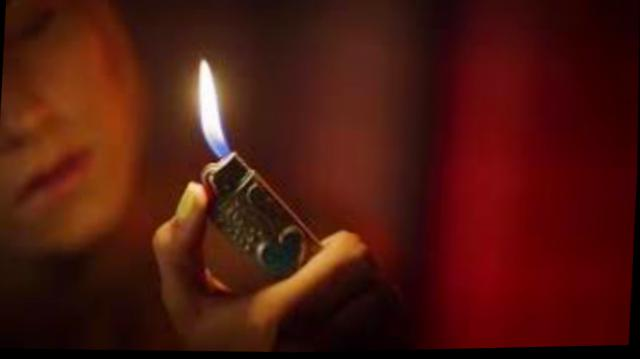fire: (184, 53, 242, 160)
